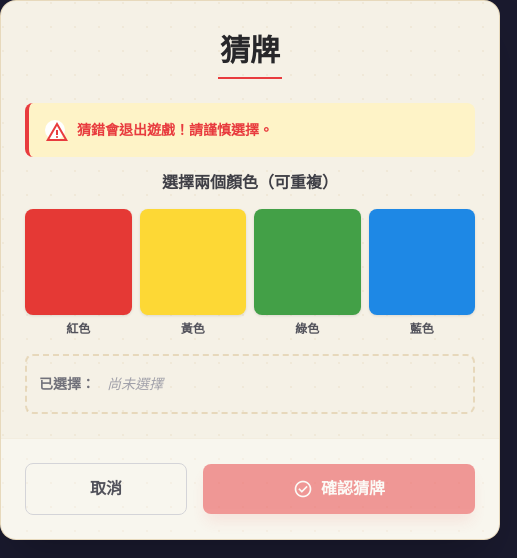
Test: GuessCard - 工作單 0021, 0129 › 顏色選擇器 › 應可以選擇兩個相同顏色
Click the button with aria-label "選擇 紅色".
click(78, 273)  # box [25,209,132,338]
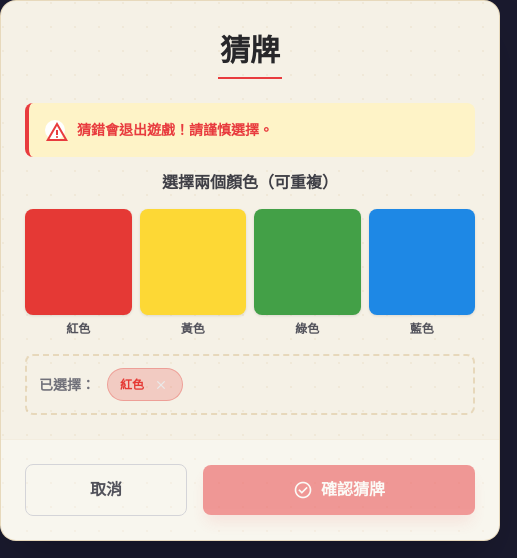
Click the button with aria-label "選擇 紅色".
click(78, 273)  # box [25,209,132,338]
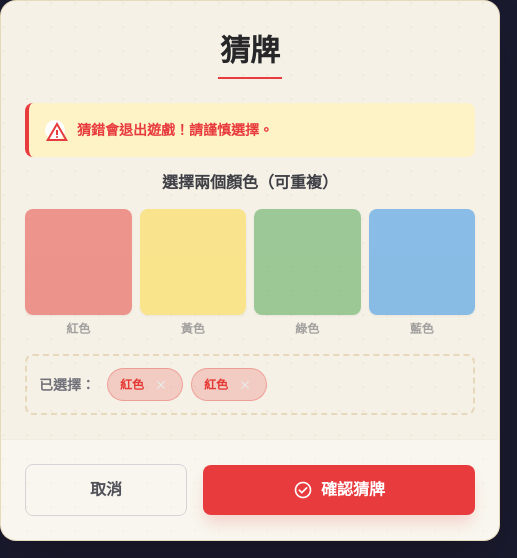
Check: the number of buttons named "移除 紅色" is 2, box [152,376,170,394]; [236,376,254,394]
